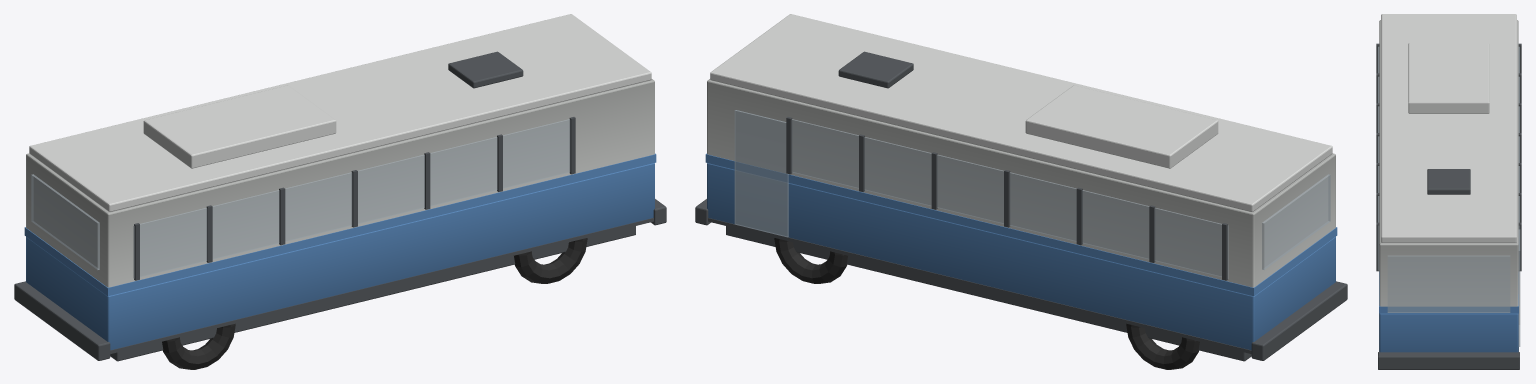
Rendered from bus.glb.
3 renders of one model, left to right at view 1: azimuth 30°, elevation 25°; view 2: azimuth 150°, elevation 25°; view 3: azimuth 270°, elevation 25°, orthographic. The views are drawn at different scales.
Parts seen in each view (by area): view 1: bus_body_white, bus_roof, bus_body_blue, bus_side_glass_neg, bus_vent1, bus_trim_blue, bus_chassis_dark, bus_rearglass, bus_mullion_neg, bus_bumper_rear, bus_trim_dark, bus_vent2 (+2 smaller); view 2: bus_body_white, bus_roof, bus_body_blue, bus_side_glass_pos, bus_vent1, bus_door_glass, bus_trim_blue, bus_chassis_dark, bus_rearglass, bus_mullion_pos, bus_bumper_rear, bus_trim_dark (+3 smaller); view 3: bus_roof, bus_body_white, bus_windshield, bus_vent1, bus_body_blue, bus_bumper_front, bus_trim_blue, bus_vent2, bus_mullion_neg, bus_mullion_pos, bus_side_glass_neg, bus_side_glass_pos (+1 smaller).
Part boxes in pixels (x1,y1,x2,y2): bus_body_white: (26, 79, 654, 287); bus_roof: (29, 14, 651, 211); bus_body_blue: (26, 163, 654, 350); bus_side_glass_neg: (133, 119, 570, 278); bus_vent1: (143, 85, 336, 168); bus_trim_blue: (24, 153, 656, 296); bus_chassis_dark: (110, 226, 635, 361); bus_rearglass: (31, 174, 99, 269); bus_mullion_neg: (134, 117, 575, 280); bus_bumper_rear: (14, 281, 110, 360); bus_trim_dark: (110, 218, 653, 353); bus_vent2: (448, 51, 523, 88); bus_body_white: (707, 79, 1335, 287); bus_roof: (710, 14, 1332, 211); bus_body_blue: (707, 163, 1335, 350); bus_side_glass_pos: (791, 119, 1228, 278); bus_vent1: (1025, 85, 1218, 168); bus_door_glass: (734, 110, 788, 237); bus_trim_blue: (705, 153, 1337, 296); bus_chassis_dark: (726, 226, 1251, 361); bus_rearglass: (1262, 174, 1330, 269); bus_mullion_pos: (786, 117, 1227, 280); bus_bumper_rear: (1251, 281, 1347, 360); bus_trim_dark: (708, 218, 1251, 353); bus_roof: (1381, 14, 1516, 242); bus_body_white: (1379, 20, 1518, 306); bus_windshield: (1387, 255, 1510, 312); bus_vent1: (1408, 43, 1489, 113); bus_body_blue: (1379, 313, 1518, 352); bus_bumper_front: (1378, 352, 1519, 369); bus_trim_blue: (1379, 271, 1518, 313); bus_vent2: (1427, 169, 1470, 194); bus_mullion_neg: (1376, 43, 1379, 271); bus_mullion_pos: (1518, 43, 1521, 271); bus_side_glass_neg: (1378, 46, 1379, 270); bus_side_glass_pos: (1518, 46, 1519, 269).
Bounding box in the file's own units: 10.18 × 3.47 × 2.67.
